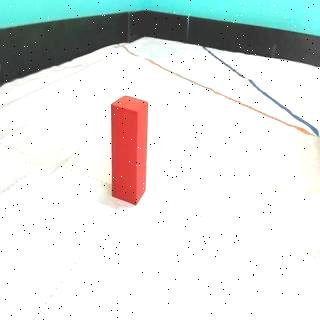redbox: (110, 94, 148, 206)
